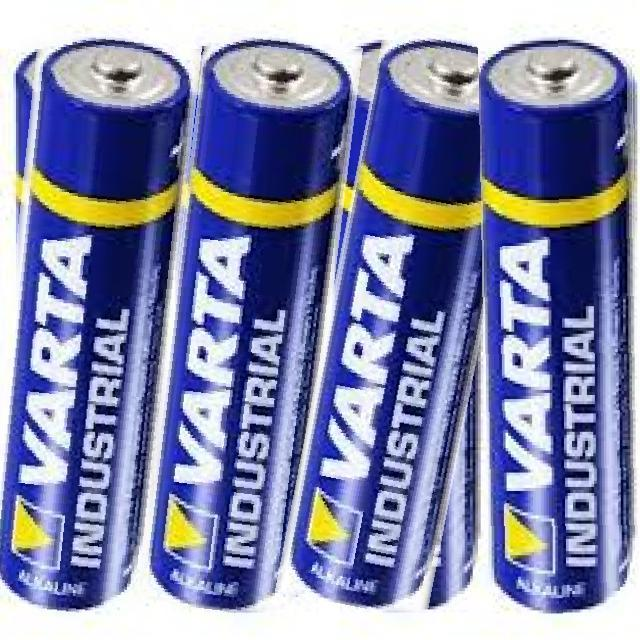Battery: (147, 32, 360, 616), (285, 33, 490, 613), (0, 26, 188, 616), (481, 39, 632, 613)
